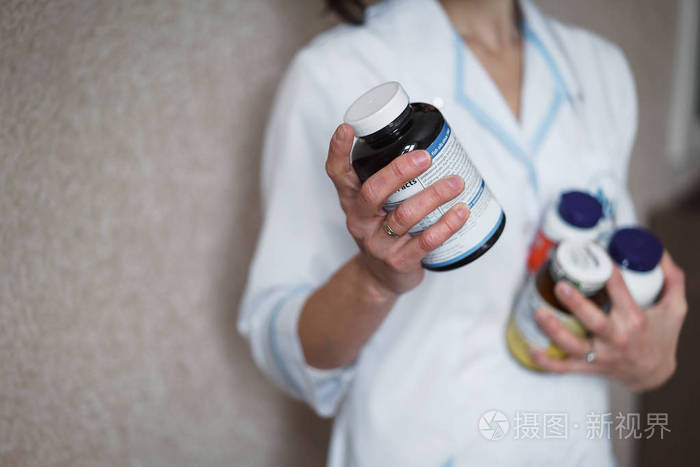no-phone: (322, 93, 511, 297)
